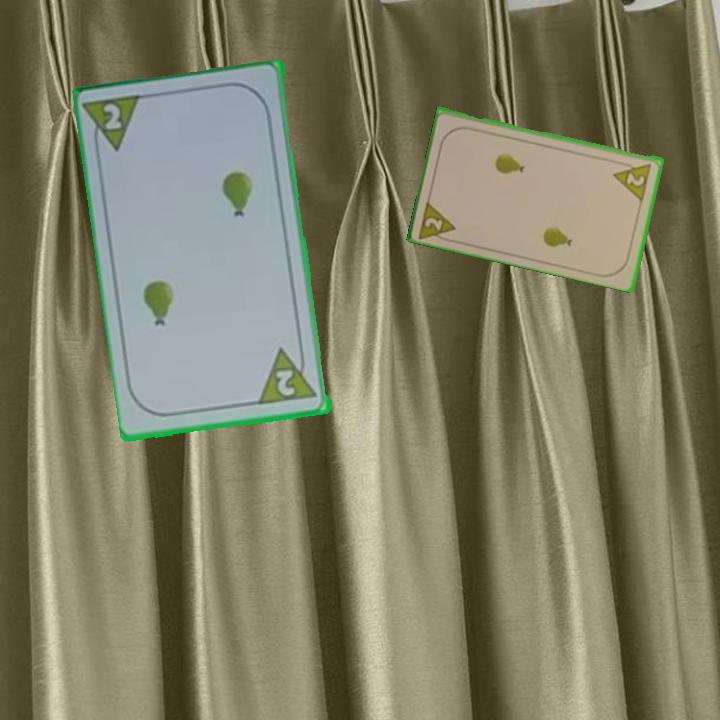2p: (257, 343, 321, 408), (415, 195, 460, 245), (610, 159, 654, 202), (100, 100, 126, 134)
